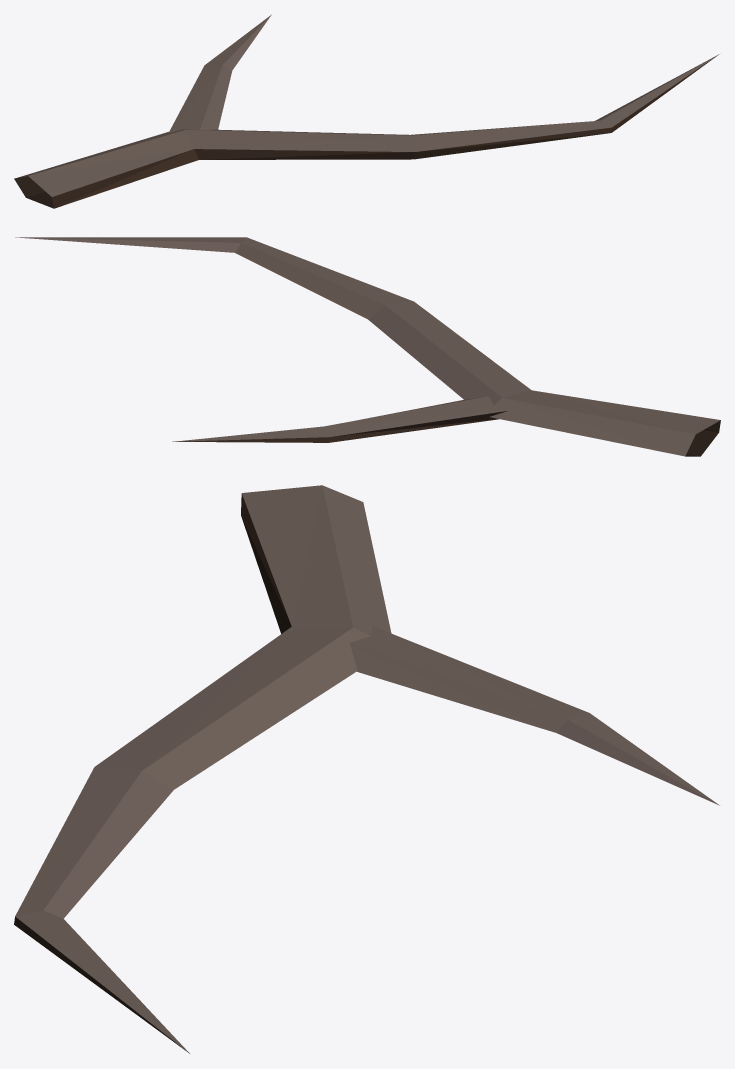
Rendered from SM_Arena_RootFlat_B.fbx.
3 views of the same model, one above another, from view 1: azimuth 30°, elevation 25°; view 2: azimuth 150°, elevation 25°; view 3: azimuth 270°, elevation 25° (orthographic). The views are drawn at different scales.
Parts seen in each view (by area): view 1: SM_Arena_RootFlat_B; view 2: SM_Arena_RootFlat_B; view 3: SM_Arena_RootFlat_B.
Part boxes in pixels (box(x1,y1,x2,y2)): SM_Arena_RootFlat_B: box(14, 14, 719, 208); SM_Arena_RootFlat_B: box(15, 237, 720, 456); SM_Arena_RootFlat_B: box(14, 485, 719, 1053).
Size of the model in its own units: 2.2 by 0.0644 by 1.18.
